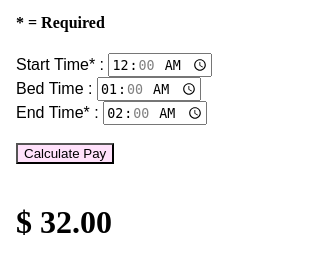
Test: Babysitter › 8 p.m. to 10 p.m., 9 p.m. bedtime
This screenshot has width=320, height=256.
Replace the text in the time field with id "startTime" with "20:00" at (160, 65), box [108,53,212,77]
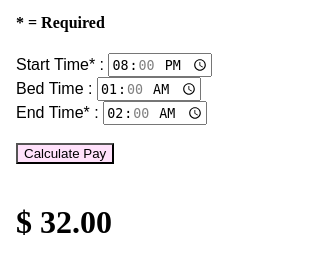
Replace the text in the time field with id "bedTime" with "21:00" at (149, 89), box [97,77,201,101]
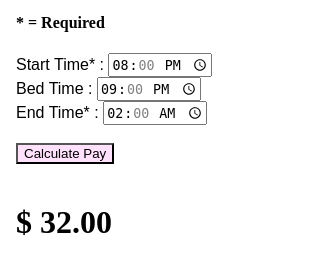
Replace the text in the time field with id "endTime" with "22:00" at (155, 113), box [103,101,207,125]
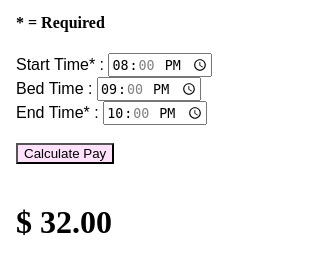
Click the button with id "calcPayBtn" at (65, 154), box [16,143,114,164]
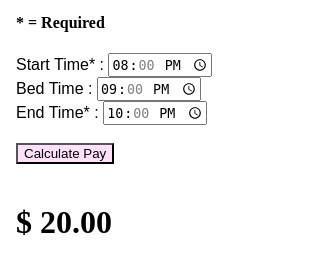
Result: the heading "$ 20.00" is shown at [16,204,112,240]
